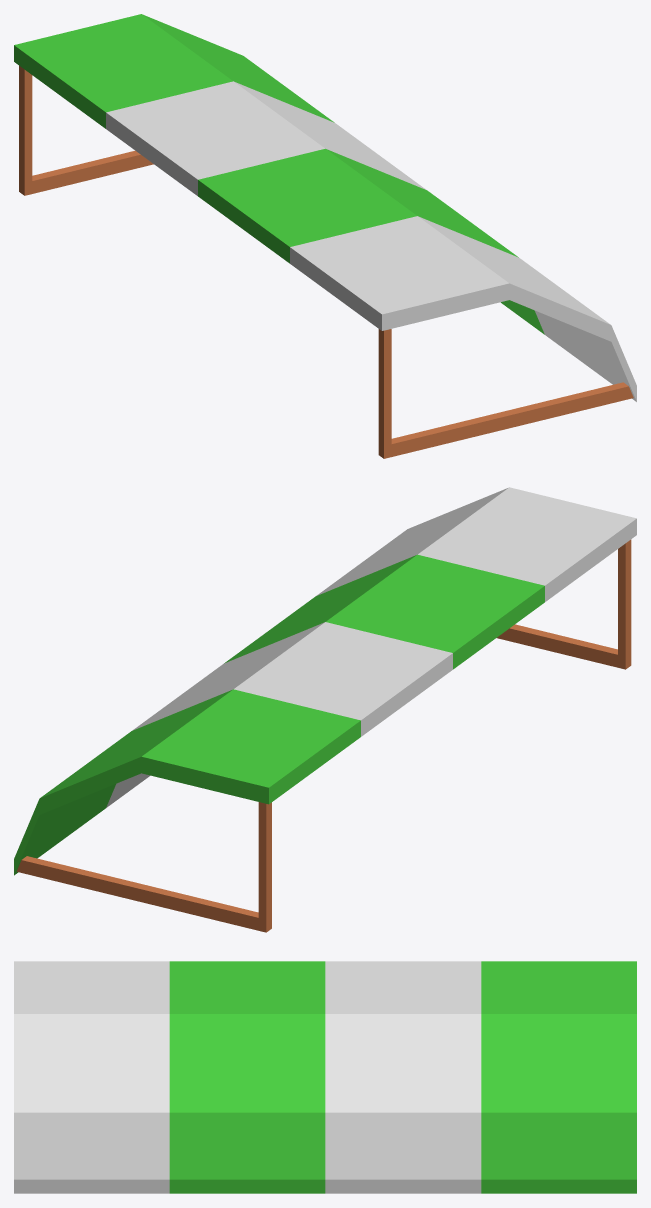
The model's file is shadowCover.fbx.
The picture shows the model from 3 angles, top to bottom: view 1: azimuth 30°, elevation 25°; view 2: azimuth 150°, elevation 25°; view 3: azimuth 270°, elevation 25°; orthographic projection. The views are drawn at different scales.
Visible parts, largest first — view 1: Cube; view 2: Cube; view 3: Cube.
Boxes of the visible parts, left/top/right/bottom form: Cube: left=14, top=14, right=636, bottom=458; Cube: left=14, top=487, right=636, bottom=932; Cube: left=14, top=961, right=636, bottom=1193.
Bounding box in the file's own units: 80 × 45 × 200.
